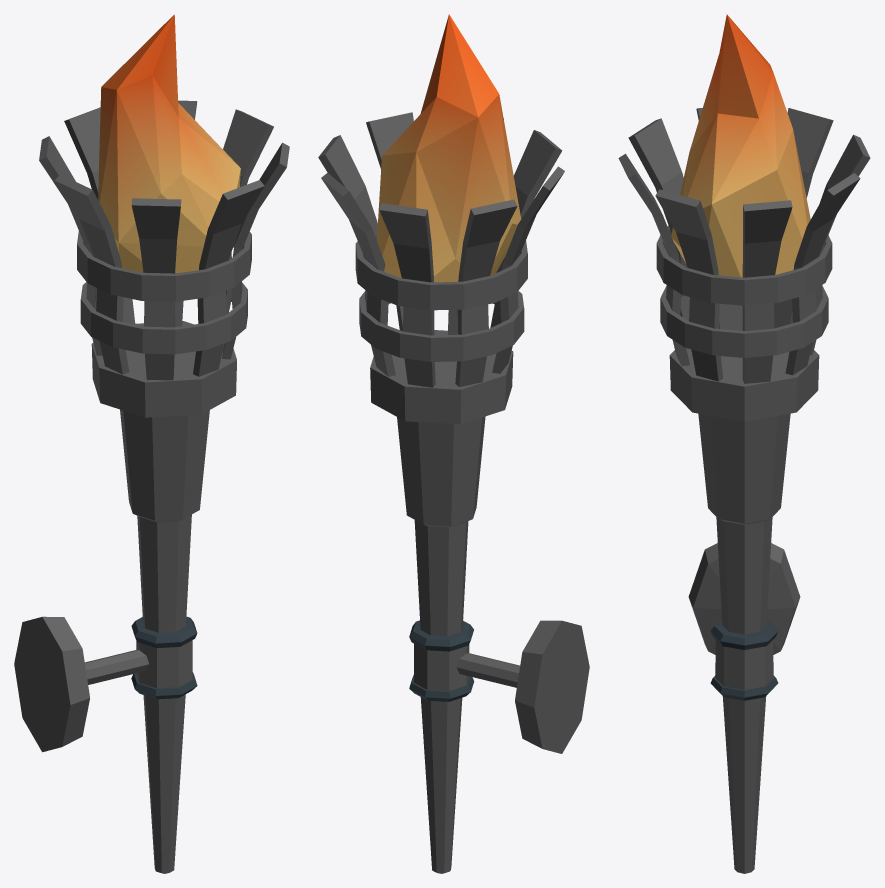
The model's file is torch.gltf.
3 views of the same model, side by side, from view 1: azimuth 30°, elevation 25°; view 2: azimuth 150°, elevation 25°; view 3: azimuth 270°, elevation 25° (orthographic).
Parts seen in each view (by area): view 1: torch, torch_fire; view 2: torch, torch_fire; view 3: torch, torch_fire.
Part boxes in pixels (box(x1,y1,x2,y2)): torch: box(14, 100, 289, 873); torch_fire: box(98, 14, 240, 273); torch: box(318, 112, 589, 873); torch_fire: box(377, 14, 521, 282); torch: box(618, 108, 870, 873); torch_fire: box(671, 14, 810, 277).
Bounding box in the file's own units: 0.6561 × 2.34 × 0.6214.
